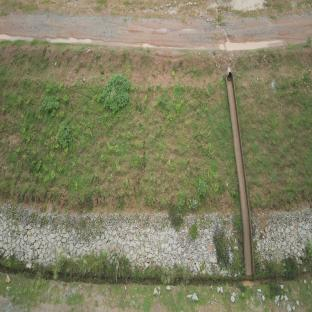rock_toe: (0, 204, 246, 276), (252, 209, 312, 274)
toe_drain: (0, 264, 312, 288)
